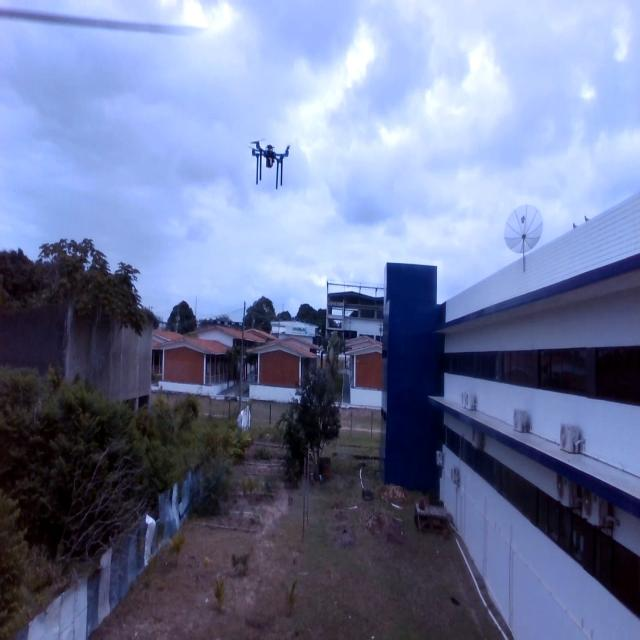-uav-: (243, 130, 294, 194)
